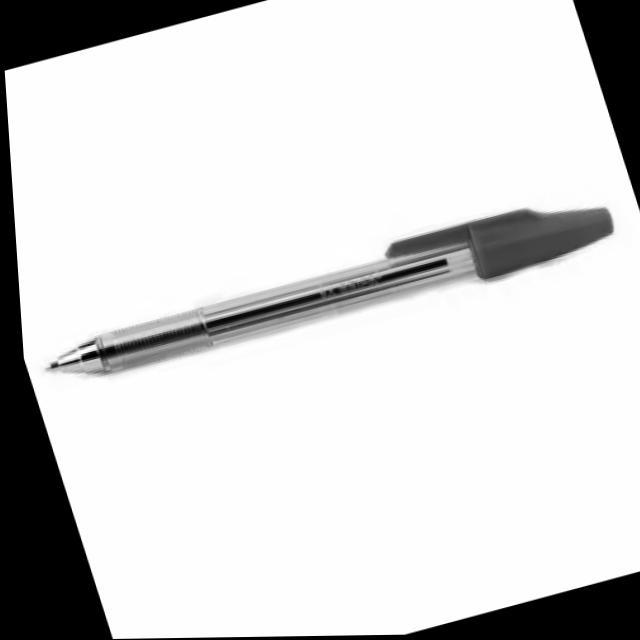pencil: (24, 183, 619, 402)
